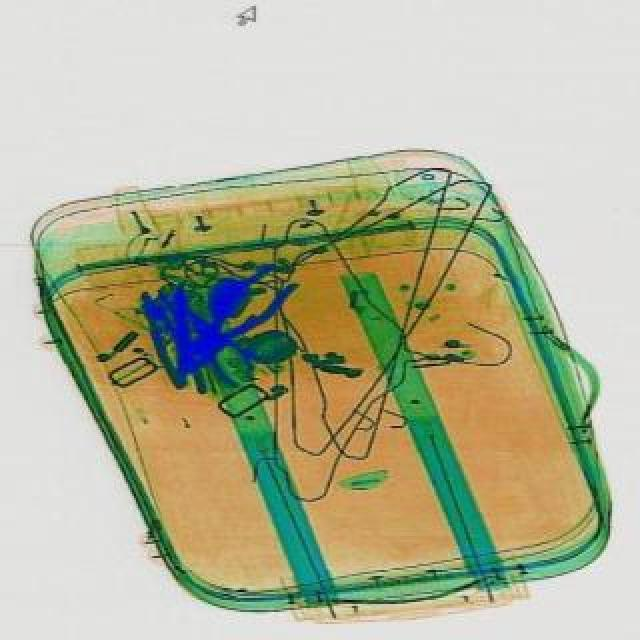wrench: (168, 254, 308, 386), (136, 284, 216, 400), (178, 298, 268, 392)
